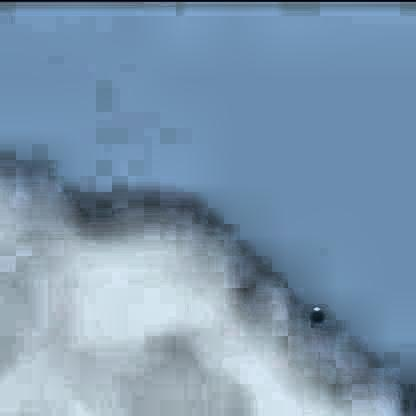golfball: (306, 305, 322, 321)
